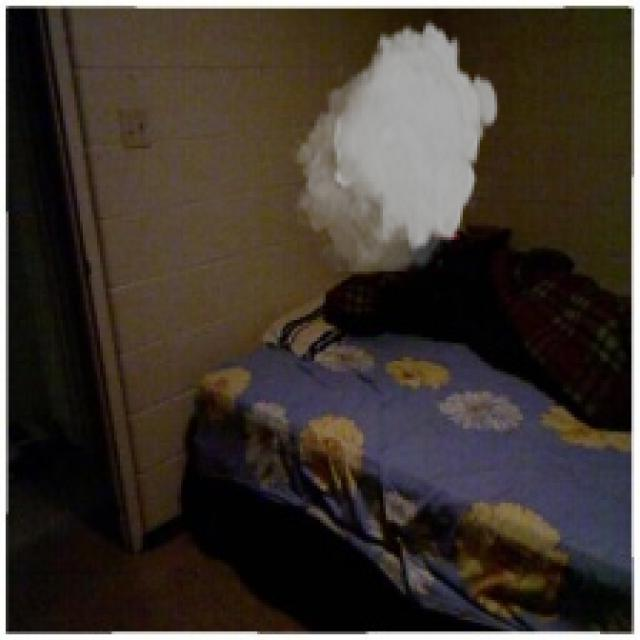smoke: (289, 17, 500, 272)
